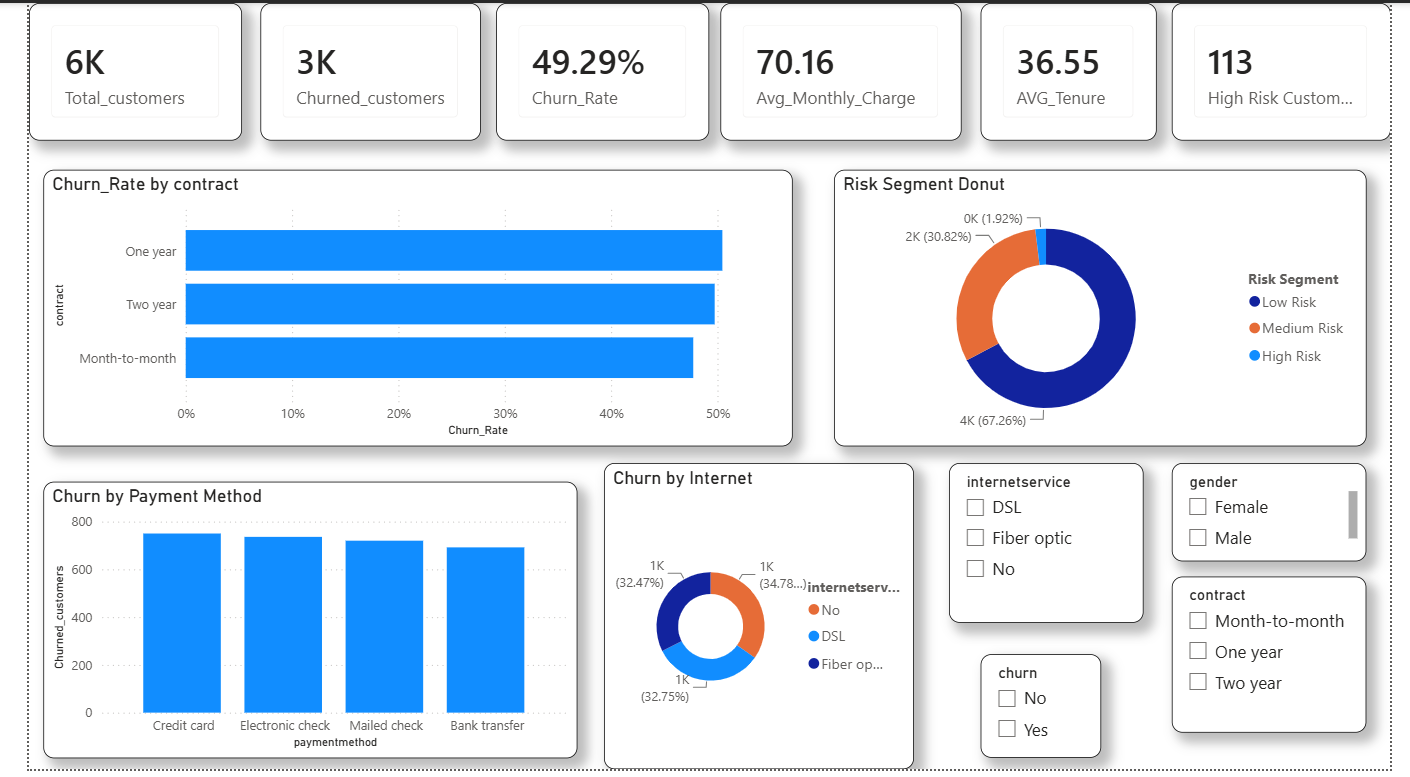

What the dashboard file says about the page in this screenshot:
{"tool":"powerbi","page":{"name":"Page 1","canvas":[1280,720],"ordinal":0},"visuals":[{"type":"cardVisual","fields":{"Data":["public customer_churn.Total_customers"]},"box":[0,0,200.7,129.1],"z":0},{"type":"cardVisual","fields":{"Data":["public customer_churn.Churned_customers"]},"box":[218.1,0,207.6,129.1],"z":1000},{"type":"cardVisual","fields":{"Data":["public customer_churn.Churn_Rate"]},"box":[439.7,0,200.7,129.1],"z":2000},{"type":"cardVisual","fields":{"Data":["public customer_churn.Avg_Monthly_Charge"]},"box":[650.9,0,226.8,129.1],"z":3000},{"type":"cardVisual","fields":{"Data":["public customer_churn.AVG_Tenure"]},"box":[895.1,0,165.8,129.1],"z":4000},{"type":"clusteredBarChart","fields":{"Category":["public customer_churn.contract"],"Y":["public customer_churn.Churn_Rate"]},"box":[14,157,704.9,260],"z":5000},{"type":"donutChart","title":"Churn by Internet","fields":{"Category":["public customer_churn.internetservice"],"Y":["public customer_churn.Churned_customers"]},"box":[540.9,432.7,291.4,287.9],"z":6000},{"type":"columnChart","title":" Churn by Payment Method ","fields":{"Category":["public customer_churn.paymentmethod"],"Y":["public customer_churn.Churned_customers"]},"box":[14,450.2,502.5,260],"z":7000},{"type":"slicer","fields":{"Values":["public customer_churn.gender"]},"box":[1074.9,432.7,183.2,92.5],"z":8000},{"type":"slicer","fields":{"Values":["public customer_churn.contract"]},"box":[1074.9,539.2,183.2,146.6],"z":9000},{"type":"slicer","fields":{"Values":["public customer_churn.internetservice"]},"box":[865.5,432.7,183.2,150.1],"z":10000},{"type":"slicer","fields":{"Values":["public customer_churn.churn"]},"box":[895.1,612.5,113.4,97.7],"z":11000},{"type":"donutChart","title":"Risk Segment Donut","fields":{"Category":["public customer_churn.Risk Segment"],"Y":["public customer_churn.Total_customers"]},"box":[757.3,157,500.8,260],"z":12000},{"type":"cardVisual","fields":{"Data":["public customer_churn.High Risk Customers"]},"box":[1074.9,0,205.9,129.1],"z":13000}]}

Visuals, with their boxes in screenshot pixels (x1, y1, x2, y2), scaled from the page's 1280x720 canvas onto the 1410x777 screenshot:
cardVisual - public customer_churn.Total_customers: (x1=0, y1=0, x2=221, y2=139)
cardVisual - public customer_churn.Churned_customers: (x1=240, y1=0, x2=469, y2=139)
cardVisual - public customer_churn.Churn_Rate: (x1=484, y1=0, x2=705, y2=139)
cardVisual - public customer_churn.Avg_Monthly_Charge: (x1=717, y1=0, x2=967, y2=139)
cardVisual - public customer_churn.AVG_Tenure: (x1=986, y1=0, x2=1169, y2=139)
clusteredBarChart - public customer_churn.contract x public customer_churn.Churn_Rate: (x1=15, y1=169, x2=792, y2=450)
"Churn by Internet" donutChart: (x1=596, y1=467, x2=917, y2=776)
" Churn by Payment Method " columnChart: (x1=15, y1=486, x2=569, y2=766)
slicer - public customer_churn.gender: (x1=1184, y1=467, x2=1386, y2=567)
slicer - public customer_churn.contract: (x1=1184, y1=582, x2=1386, y2=740)
slicer - public customer_churn.internetservice: (x1=953, y1=467, x2=1155, y2=629)
slicer - public customer_churn.churn: (x1=986, y1=661, x2=1111, y2=766)
"Risk Segment Donut" donutChart: (x1=834, y1=169, x2=1386, y2=450)
cardVisual - public customer_churn.High Risk Customers: (x1=1184, y1=0, x2=1409, y2=139)
